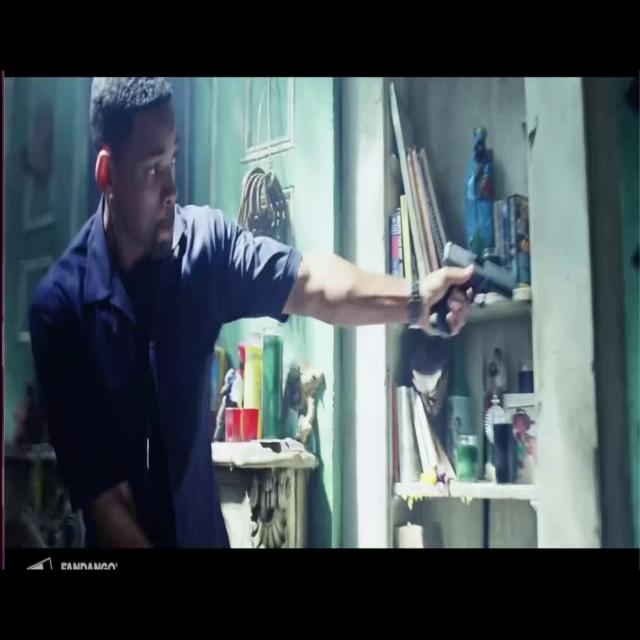weapons: (418, 205, 528, 351)
